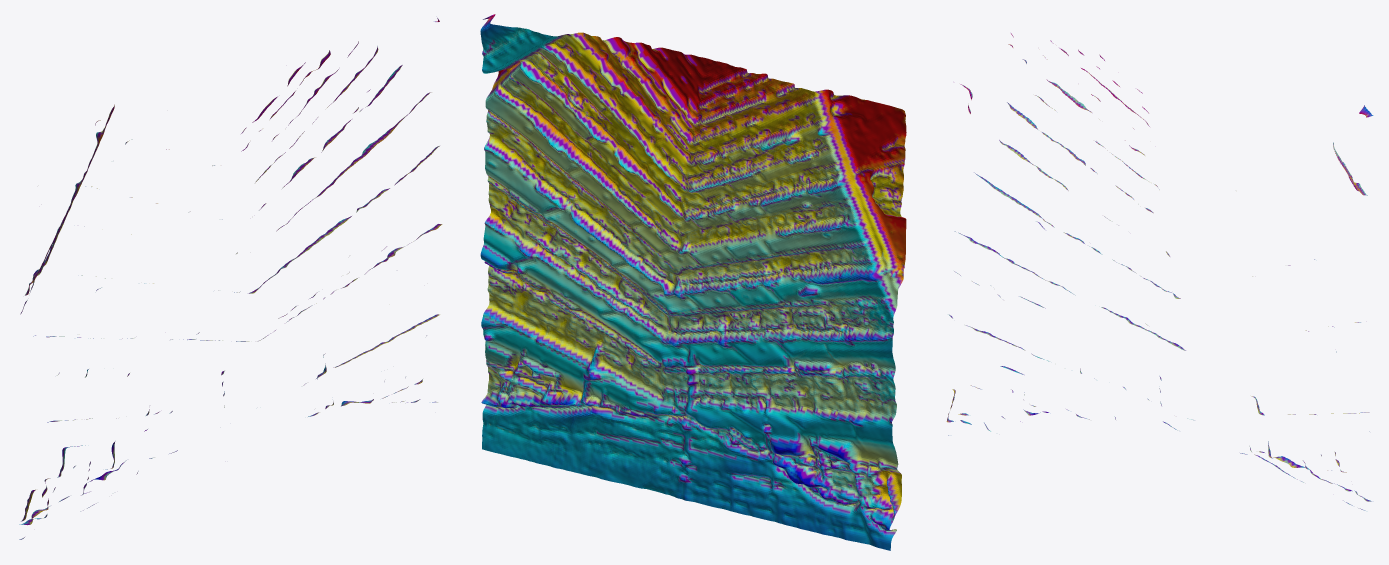
3 views of the same model, side by side, from view 1: azimuth 30°, elevation 25°; view 2: azimuth 150°, elevation 25°; view 3: azimuth 330°, elevation 25° (orthographic). The views are drawn at different scales.
Parts seen in each view (by area): view 1: world; view 2: world; view 3: world.
Part boxes in pixels (x1,y1,x2,y2): world: [19, 18, 442, 539]; world: [480, 14, 906, 550]; world: [946, 33, 1373, 510].
Size of the model in its own units: 299 by 299 by 27.
